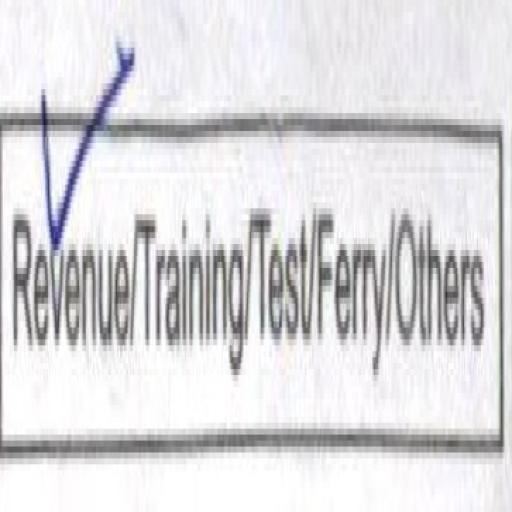check: (0, 30, 133, 470)
